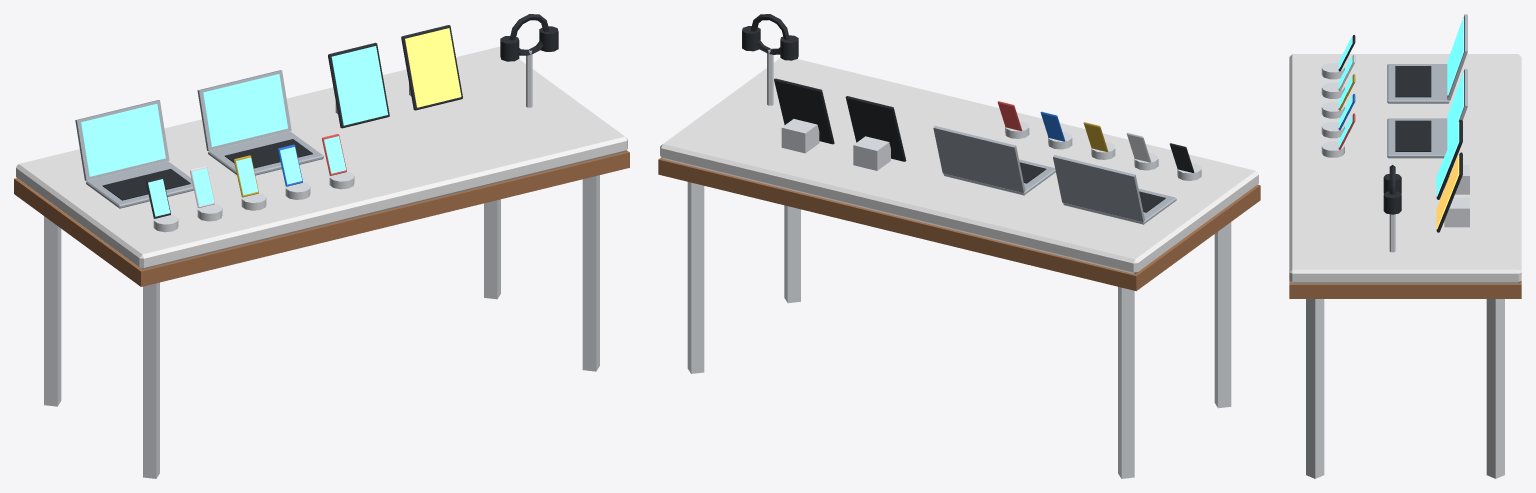
The model's file is electronics_table.glb.
3 renders of one model, left to right at view 1: azimuth 30°, elevation 25°; view 2: azimuth 150°, elevation 25°; view 3: azimuth 270°, elevation 25°, orthographic. The views are drawn at different scales.
Parts seen in each view (by area): view 1: electronics_table; view 2: electronics_table; view 3: electronics_table.
Boxes of the visible parts, x1,y1,x2,y2 form: electronics_table: [14, 14, 629, 478]; electronics_table: [658, 14, 1260, 478]; electronics_table: [1289, 14, 1521, 478].
Bounding box in the file's own units: 2 × 1.28 × 0.9.
